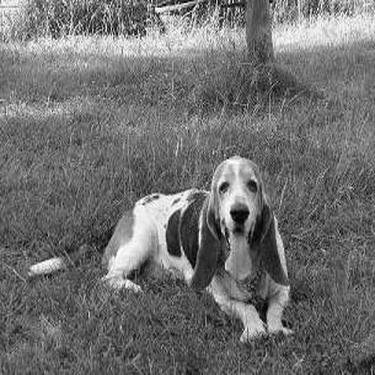dog: (19, 147, 302, 348)
